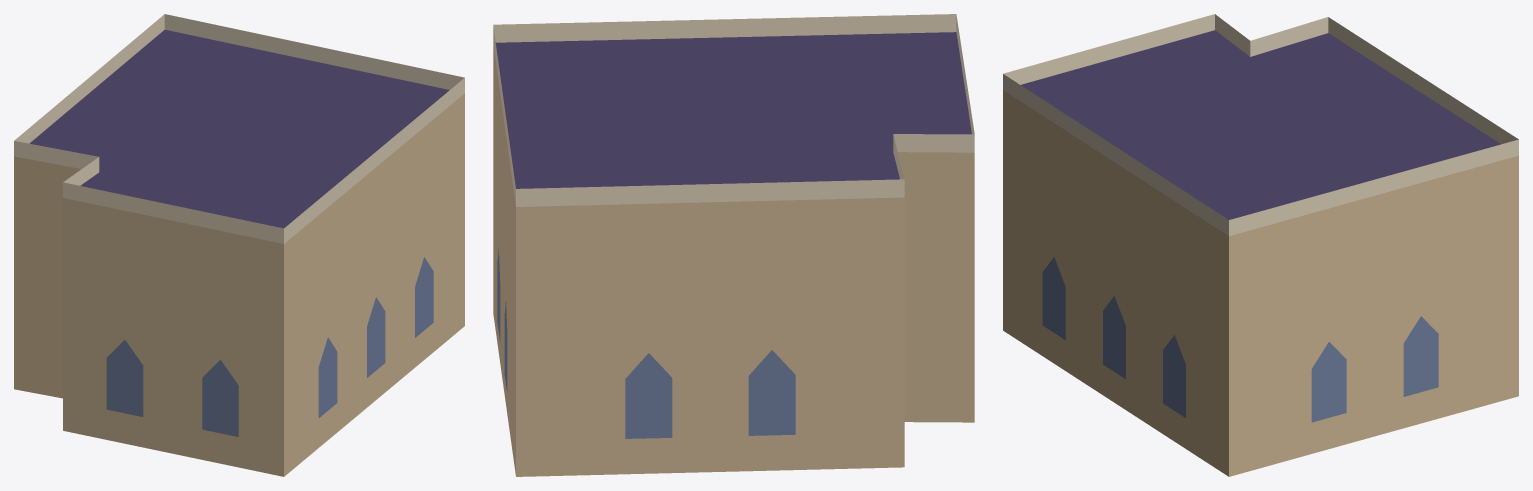
The model's file is b-052-day.glb.
3 renders of one model, left to right at view 1: azimuth 30°, elevation 25°; view 2: azimuth 150°, elevation 25°; view 3: azimuth 270°, elevation 25°, orthographic. The views are drawn at different scales.
Visible parts, largest first — view 1: campus/b-052-day-0; view 2: campus/b-052-day-0; view 3: campus/b-052-day-0.
Part boxes in pixels (x1=…): campus/b-052-day-0: x1=14, y1=14, x2=464, y2=476; campus/b-052-day-0: x1=493, y1=14, x2=974, y2=476; campus/b-052-day-0: x1=1003, y1=14, x2=1518, y2=476.
Bounding box in the file's own units: 15.06 × 8.75 × 15.93.
